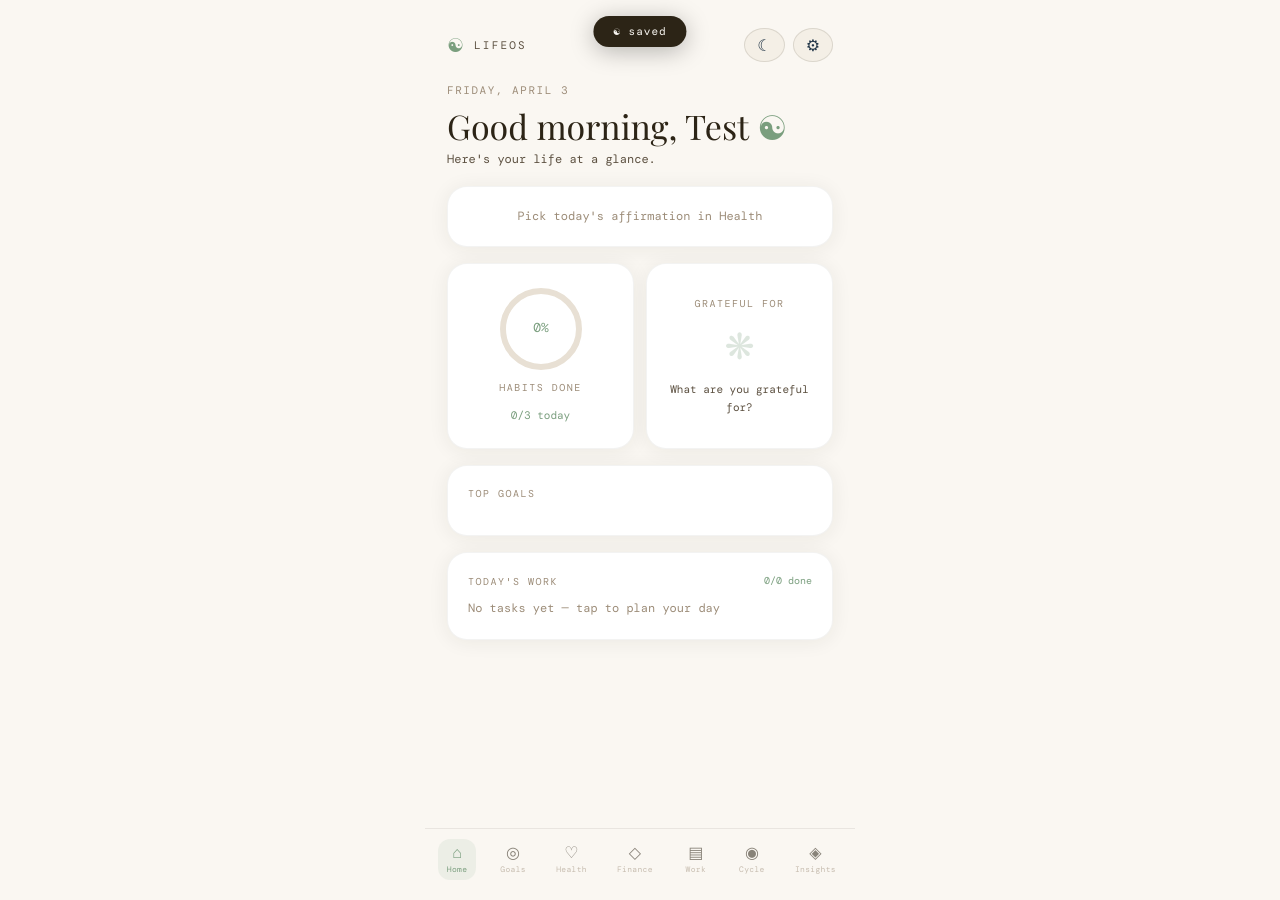
Test: LifeOS root shell › toggles dark mode
This screenshot has width=1280, height=900.
Expected: the text "LifeOS" is shown, [474,37,527,53]
What coordinates should you click on to do the following:
click the button "☾"
I would click on:
 (764, 45)
Its box is [744,28,785,62].
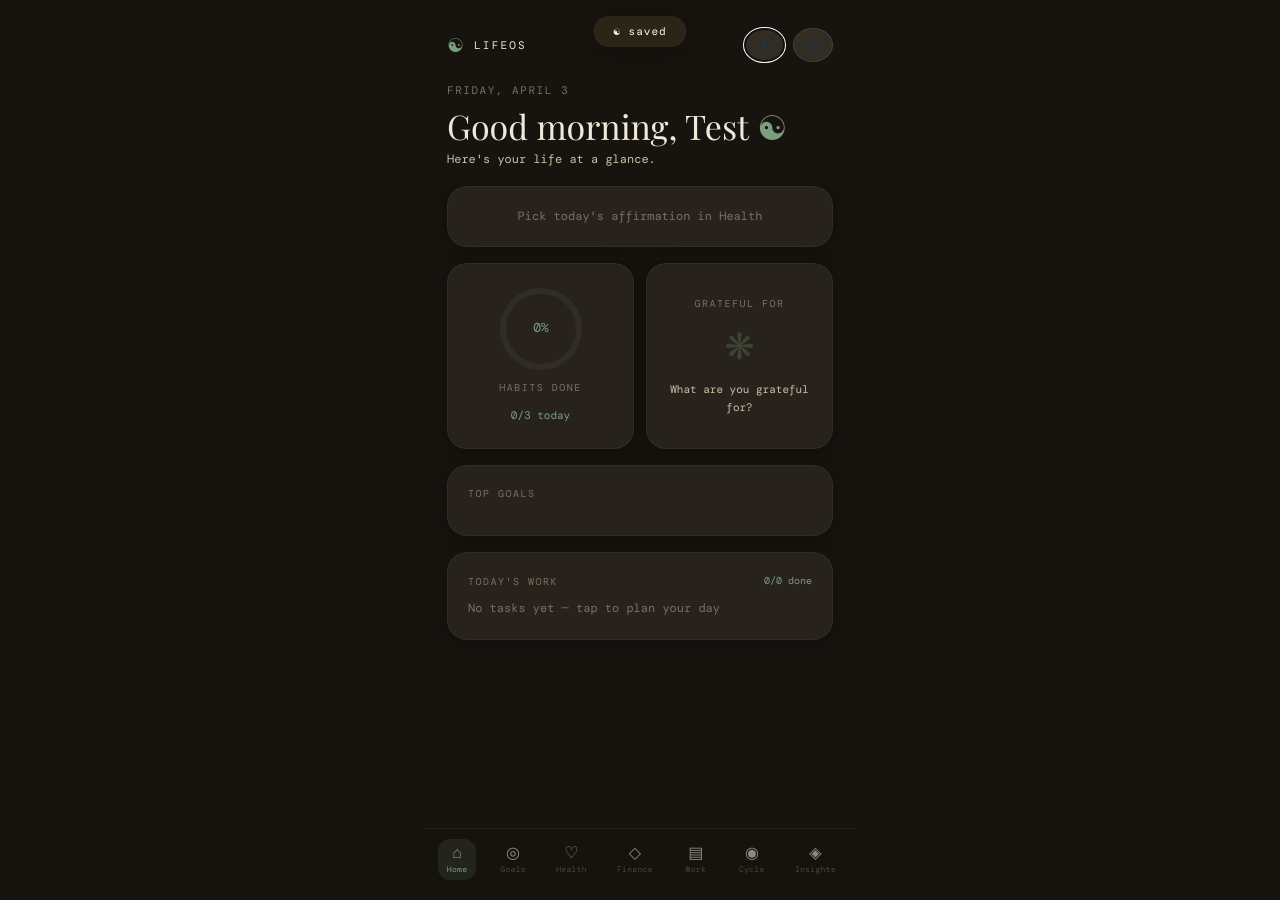
Expected: the button "☀" is shown, [744,28,785,62]
